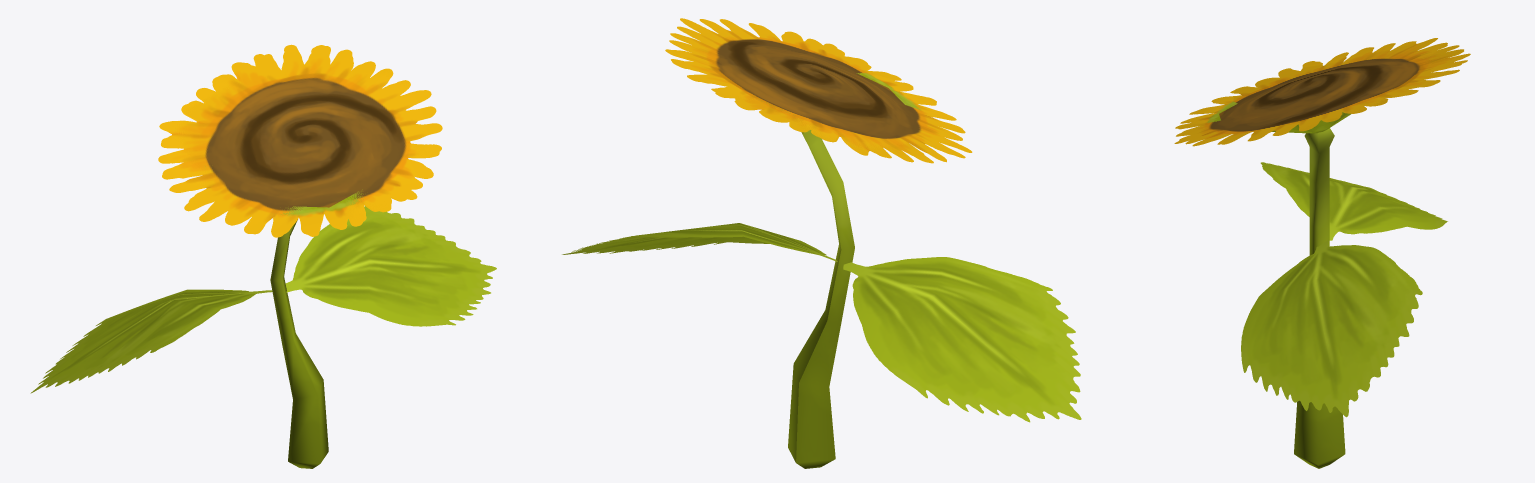
The model's file is Sunflower.fbx.
The picture shows the model from 3 angles, left to right: view 1: azimuth 30°, elevation 25°; view 2: azimuth 150°, elevation 25°; view 3: azimuth 270°, elevation 25°; orthographic projection. The views are drawn at different scales.
Parts seen in each view (by area): view 1: Sunflower; view 2: Sunflower; view 3: Sunflower.
Part boxes in pixels (x1,y1,x2,y2): Sunflower: (30,44,496,468); Sunflower: (562,18,1081,468); Sunflower: (1174,38,1470,468).
Size of the model in its own units: 9.85 by 7.38 by 5.98.
